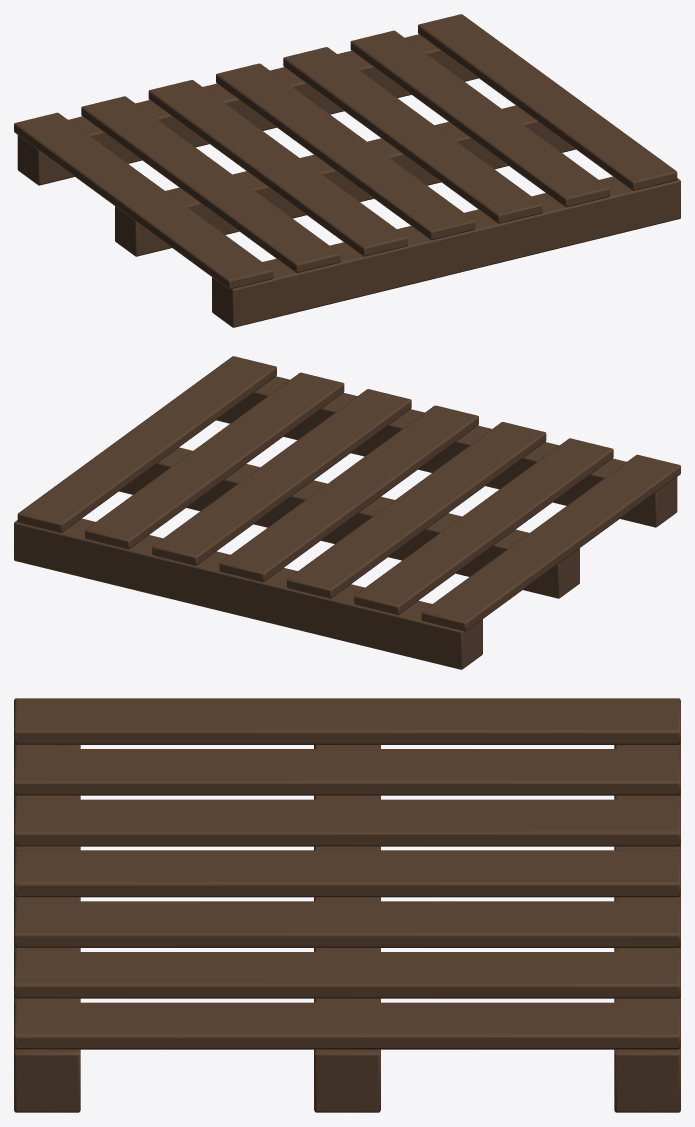
Rendered from SM_F_Pallet.fbx.
3 views of the same model, one above another, from view 1: azimuth 30°, elevation 25°; view 2: azimuth 150°, elevation 25°; view 3: azimuth 270°, elevation 25° (orthographic). The views are drawn at different scales.
Parts seen in each view (by area): view 1: SM_F_Pallet__Body; view 2: SM_F_Pallet__Body; view 3: SM_F_Pallet__Body.
Boxes of the visible parts, box(x1,y1,x2,y2) form: SM_F_Pallet__Body: box(14, 14, 680, 327); SM_F_Pallet__Body: box(14, 356, 680, 669); SM_F_Pallet__Body: box(14, 698, 680, 1112).
Bounding box in the file's own units: 1.21 × 0.125 × 1.
